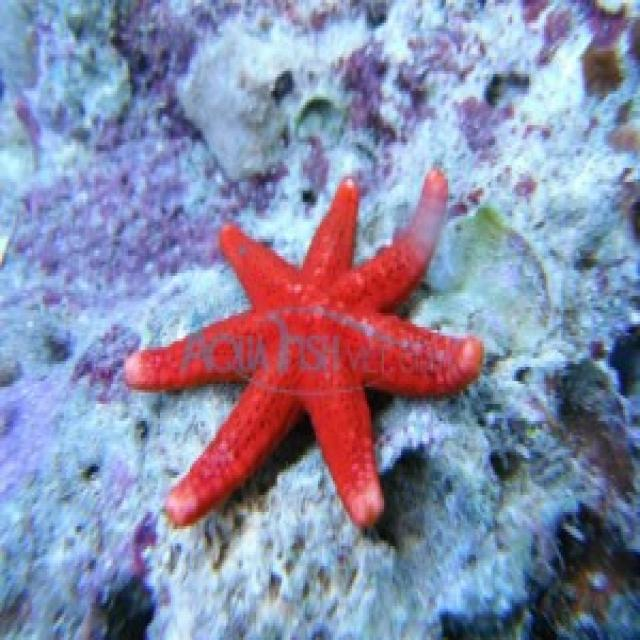Starfish: (123, 157, 488, 564)
